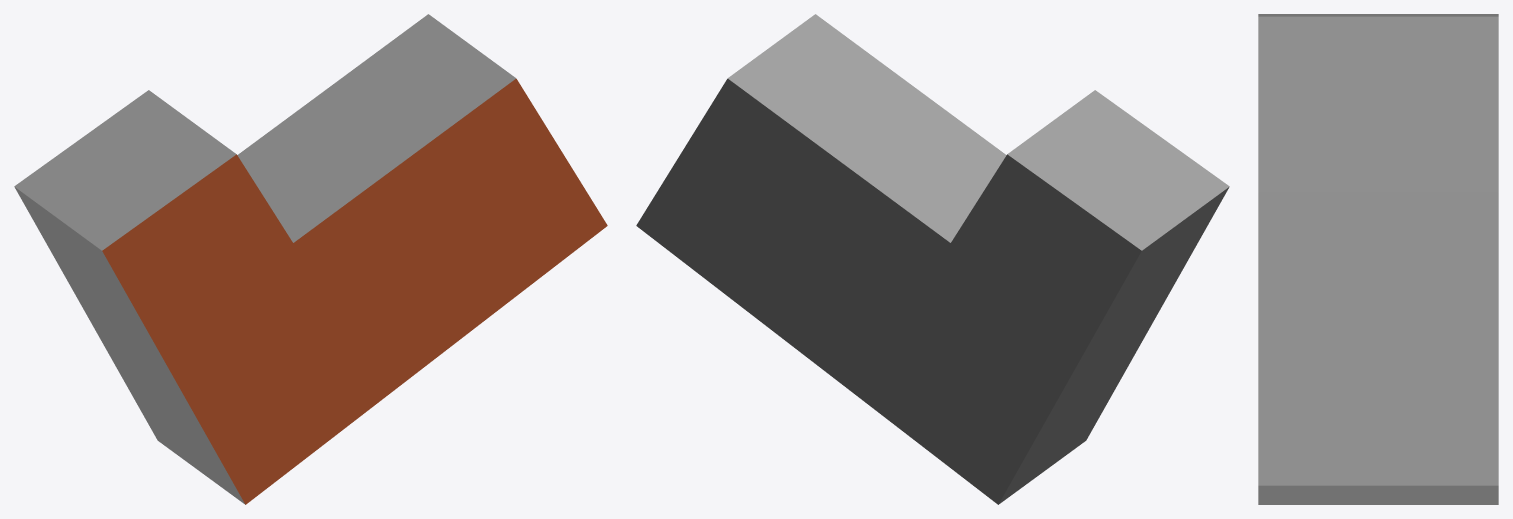
The model's file is construction_3901_assumed_A_Casa_h6m.obj.
The picture shows the model from 3 angles, left to right: view 1: azimuth 30°, elevation 25°; view 2: azimuth 150°, elevation 25°; view 3: azimuth 270°, elevation 25°; orthographic projection. The views are drawn at different scales.
Parts seen in each view (by area): view 1: construction_3901_assumed_A_Casa; view 2: construction_3901_assumed_A_Casa; view 3: construction_3901_assumed_A_Casa.
Part boxes in pixels (x1,y1,x2,y2): construction_3901_assumed_A_Casa: (14, 14, 607, 504); construction_3901_assumed_A_Casa: (636, 14, 1229, 504); construction_3901_assumed_A_Casa: (1258, 14, 1498, 504).
Size of the model in its own units: 19.92 by 13.57 by 6.
